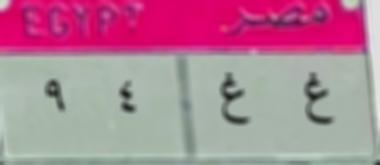4: (113, 78, 142, 117)
9: (39, 76, 70, 117)
ghayn: (298, 68, 335, 129), (218, 70, 250, 132)
